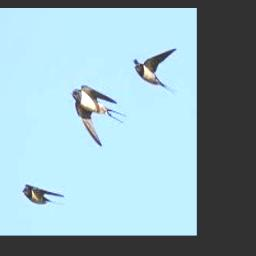Swallow: (72, 84, 128, 146), (134, 48, 177, 94), (23, 184, 65, 205)
